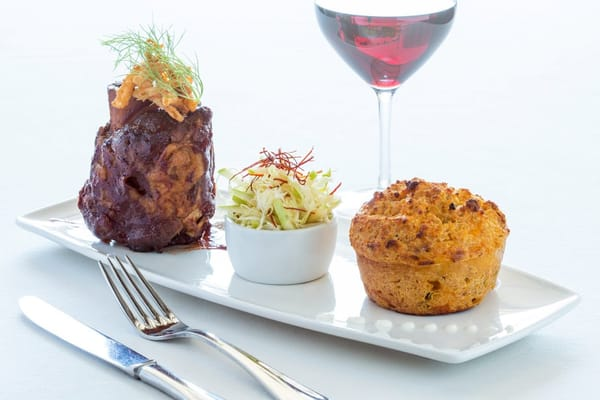burger: (97, 253, 329, 397), (18, 297, 220, 398)
sandwich: (19, 294, 217, 399)
